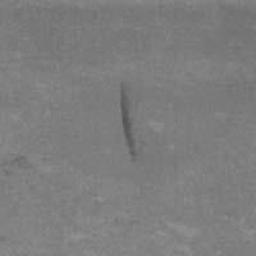Oil spot: (119, 78, 147, 168)
